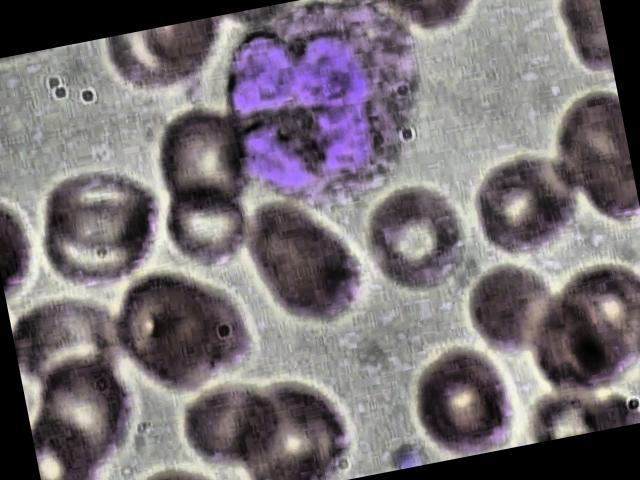RBC: (230, 179, 377, 338), (98, 263, 235, 408), (350, 166, 480, 301), (398, 337, 522, 464), (147, 98, 257, 226), (34, 157, 164, 265), (467, 147, 586, 261), (550, 85, 640, 233), (172, 375, 288, 480), (458, 254, 566, 366), (158, 181, 260, 275)
WBC: (199, 0, 449, 229)
